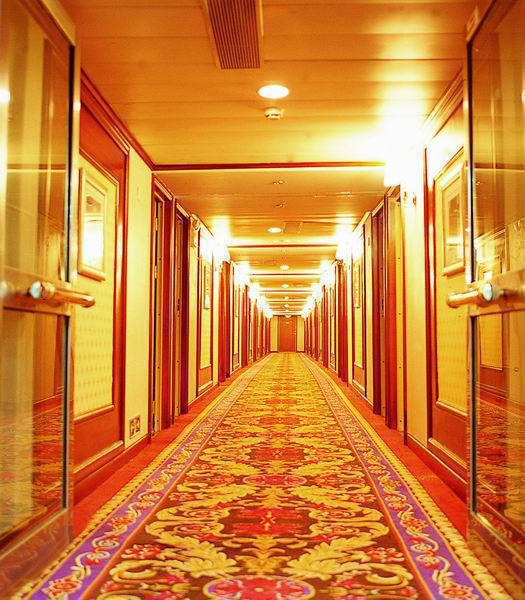Puerta: (3, 3, 75, 578), (459, 18, 521, 576), (56, 78, 126, 458), (431, 177, 465, 489), (388, 195, 407, 434), (370, 209, 389, 417), (176, 210, 189, 415), (155, 176, 164, 428), (337, 259, 348, 377), (278, 314, 297, 352)
